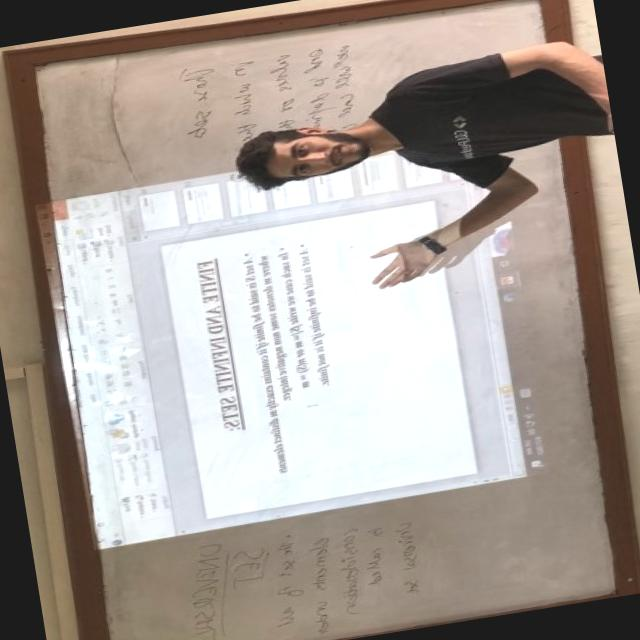Instructor: (208, 41, 615, 199)
Slide: (36, 125, 554, 548)
White-board: (13, 0, 638, 640)
